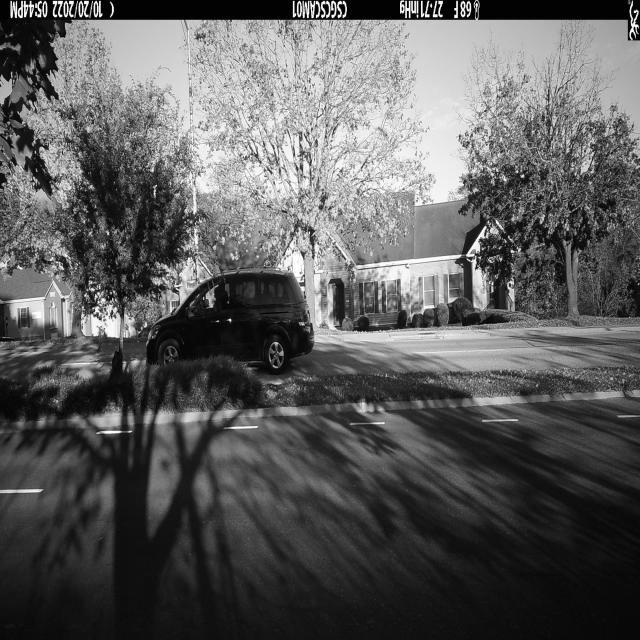Van: (148, 268, 316, 374)
